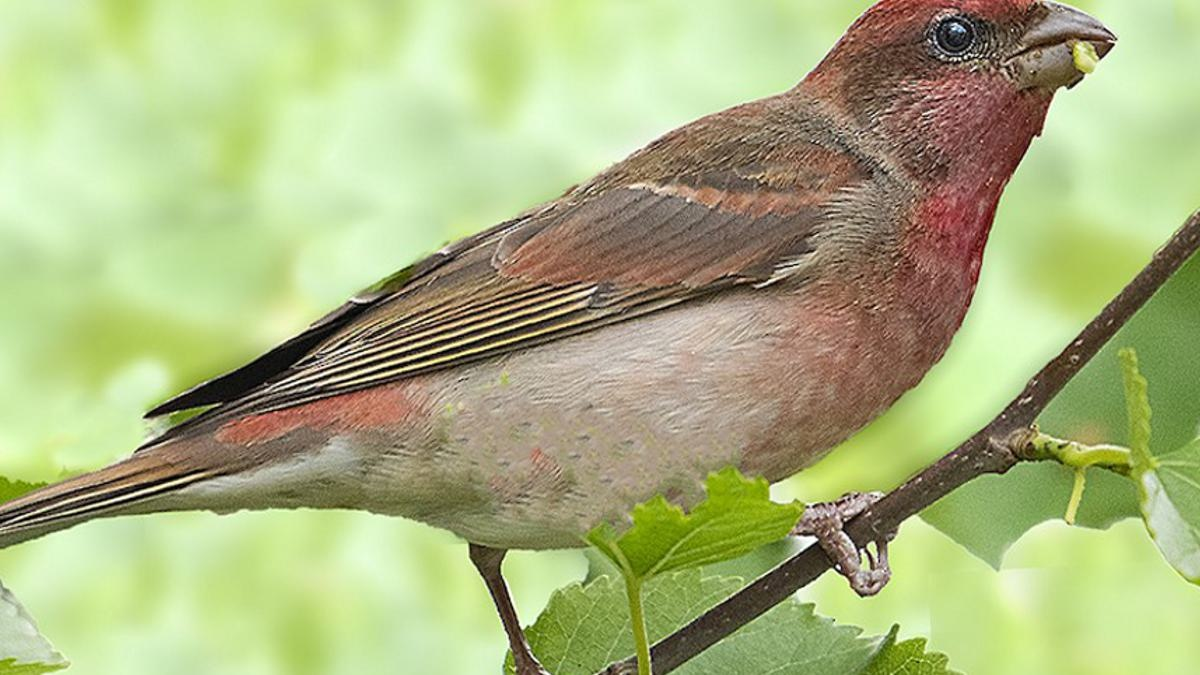rosefinch: (47, 1, 1126, 591)
